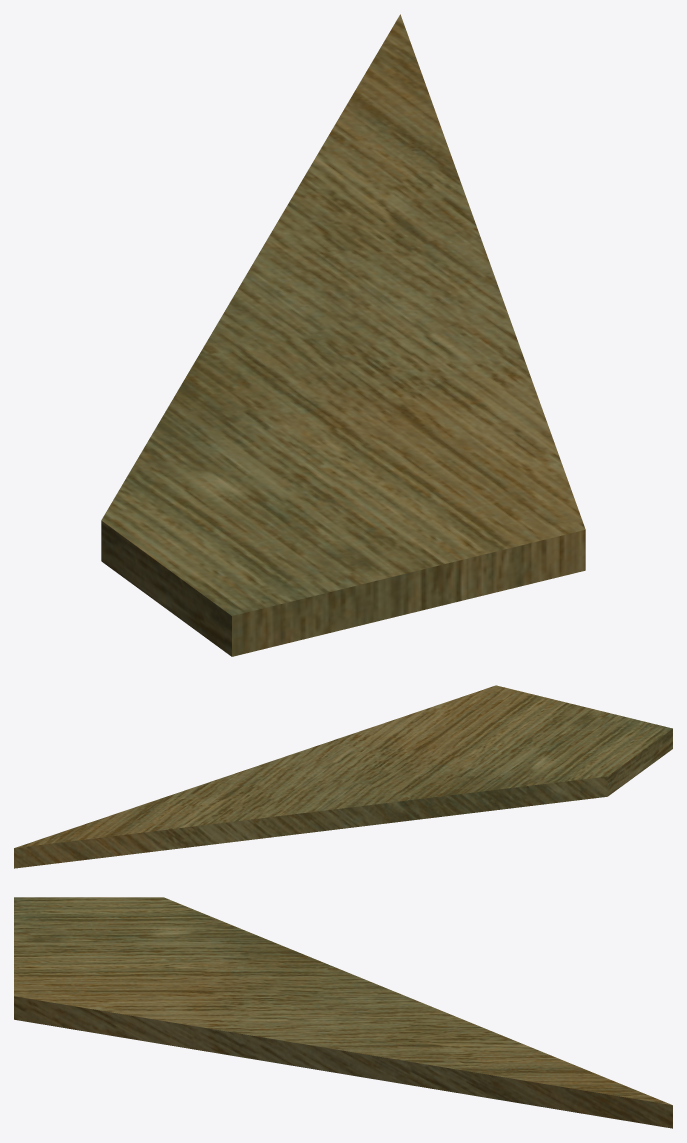
The model's file is Building1_ScaffoldingShatterPanel8.fbx.
3 renders of one model, top to bottom at view 1: azimuth 30°, elevation 25°; view 2: azimuth 150°, elevation 25°; view 3: azimuth 270°, elevation 25°, orthographic. The views are drawn at different scales.
Visible parts, largest first — view 1: Scaffolding_ShatterPanel8; view 2: Scaffolding_ShatterPanel8; view 3: Scaffolding_ShatterPanel8.
Boxes of the visible parts, x1,y1,x2,y2 form: Scaffolding_ShatterPanel8: (101, 14, 585, 656); Scaffolding_ShatterPanel8: (14, 685, 672, 868); Scaffolding_ShatterPanel8: (14, 897, 672, 1128).
Size of the model in its own units: 93.02 by 4.89 by 125.
